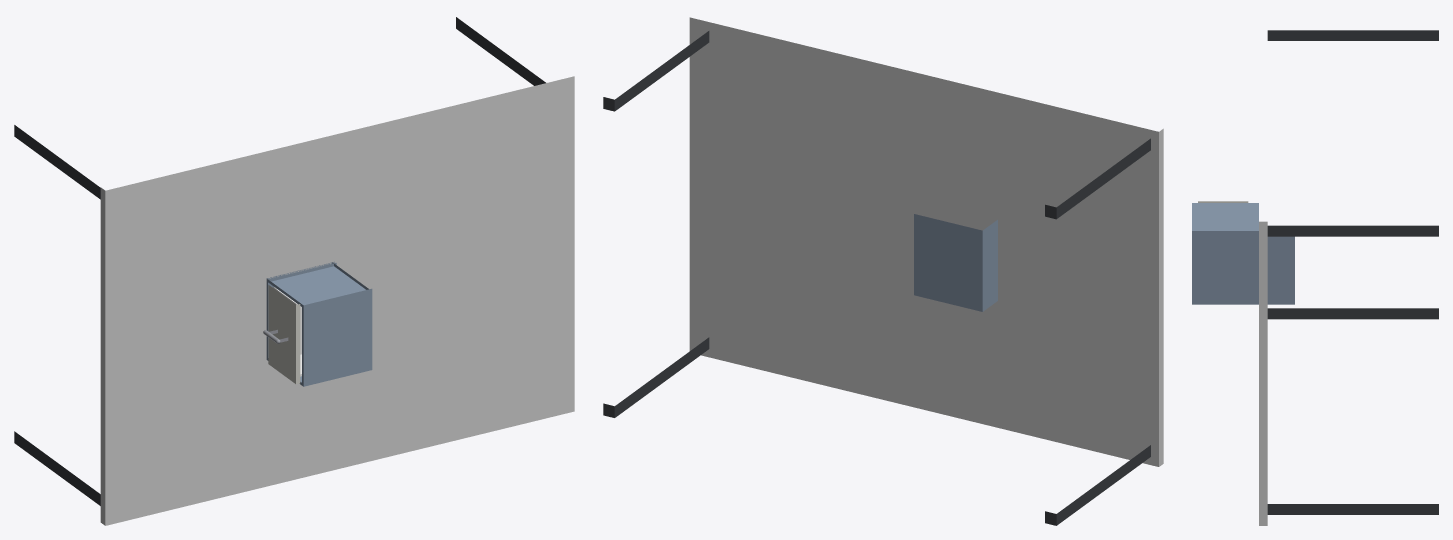
3 renders of one model, left to right at view 1: azimuth 30°, elevation 25°; view 2: azimuth 150°, elevation 25°; view 3: azimuth 270°, elevation 25°, orthographic. The views are drawn at different scales.
Parts seen in each view (by area): view 1: s0, s1, s2; view 2: s0, s1; view 3: s0, s1.
Boxes of the visible parts, left/top/right/bottom form: s0: left=14, top=17, right=574, bottom=525; s1: left=266, top=261, right=372, bottom=386; s2: left=263, top=285, right=301, bottom=384; s0: left=603, top=17, right=1163, bottom=525; s1: left=914, top=214, right=997, bottom=311; s0: left=1259, top=30, right=1438, bottom=525; s1: left=1192, top=203, right=1294, bottom=304.
Bounding box in the file's own units: 2.05 × 1.4 × 1.03.
